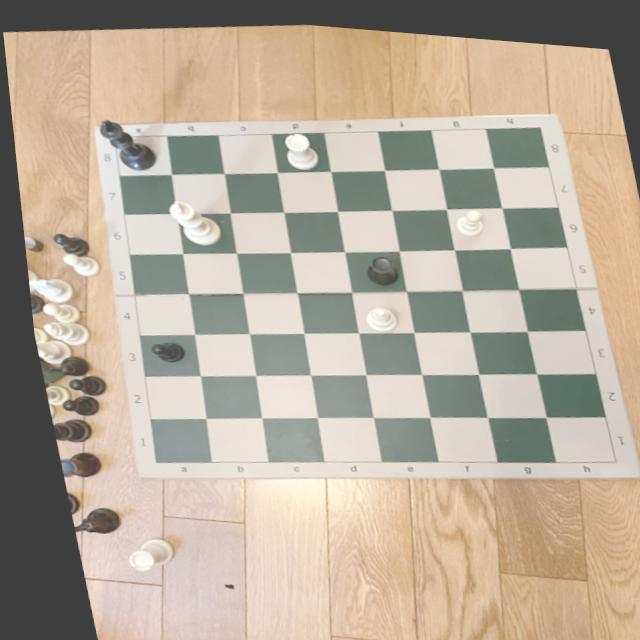Chessboard-Corners: (530, 112, 545, 124), (139, 456, 155, 467), (601, 447, 613, 457)
